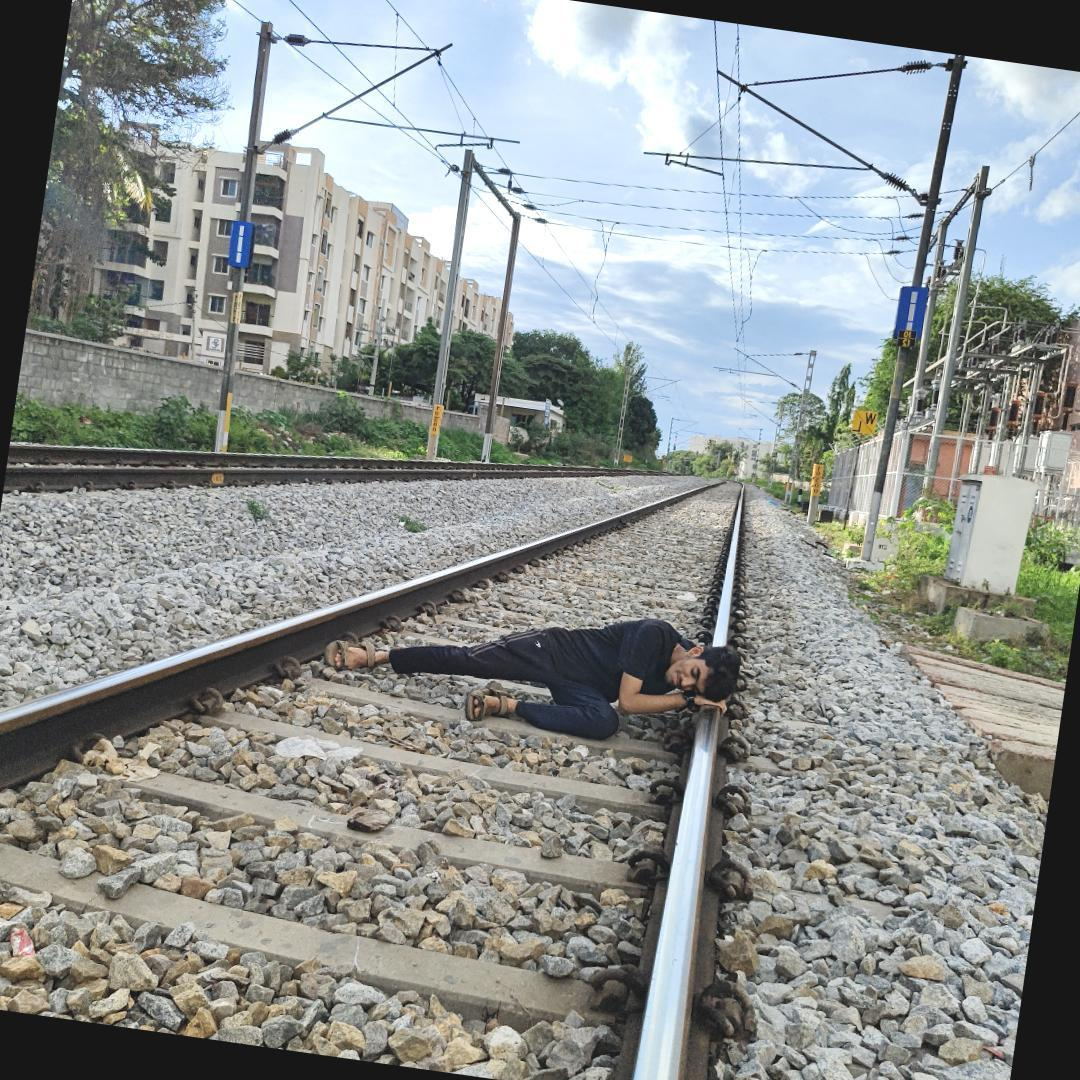sleeping: (320, 584, 768, 760)
